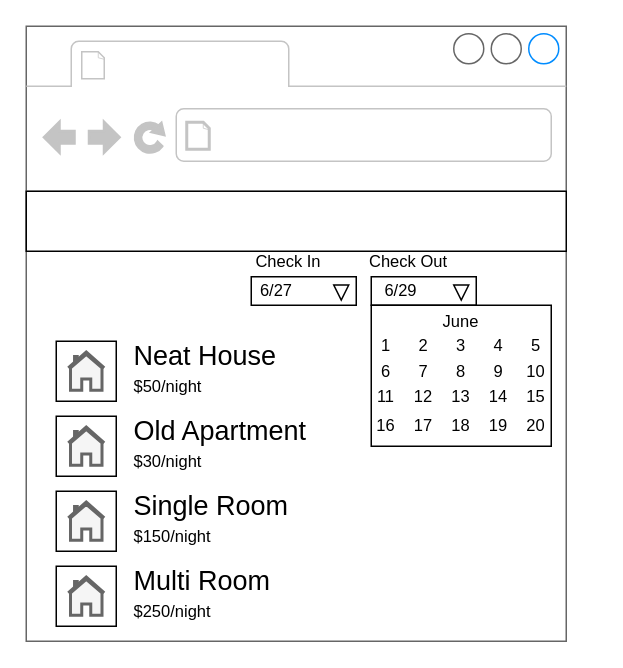
The diagram is 623 pixels wide and 668 high, and some of its shapes have lost their labels. Each missing label, with the centre of its shape:
"AirBnB" belongs at [295,220].
"Page 1" belongs at [198,63].
